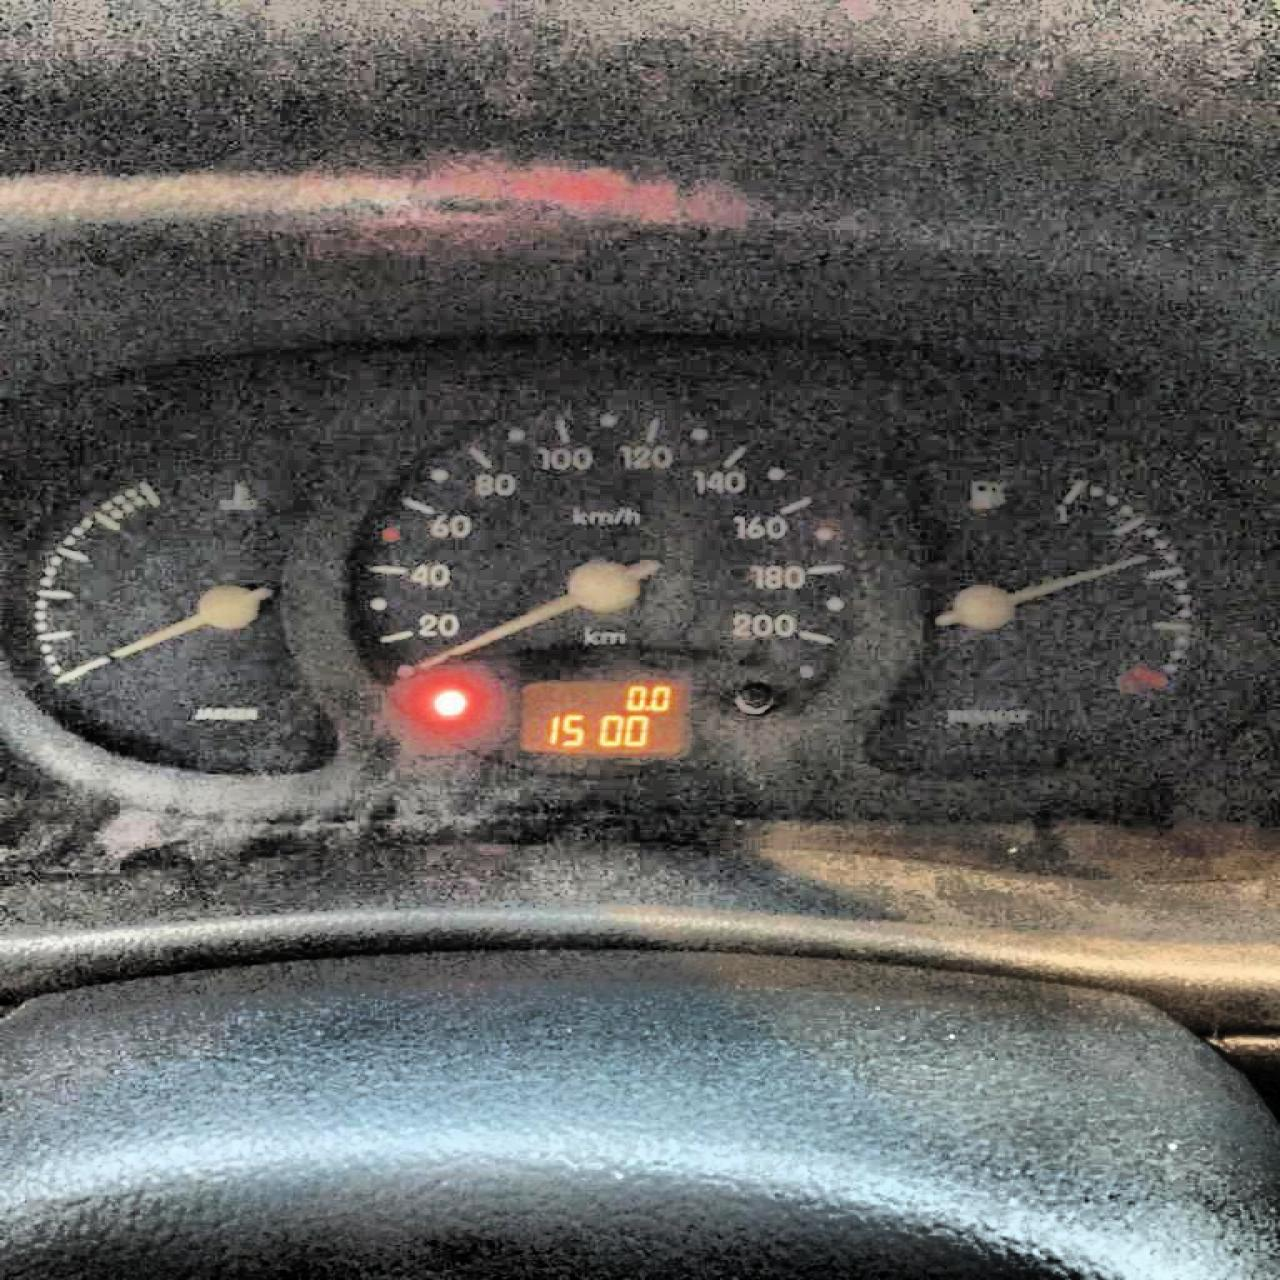-: (644, 703, 652, 712)
0: (594, 714, 624, 745), (624, 714, 647, 747), (624, 685, 647, 710), (651, 685, 670, 712)
1: (549, 714, 560, 747)
5: (561, 714, 588, 748)
odometer: (506, 674, 690, 760)
